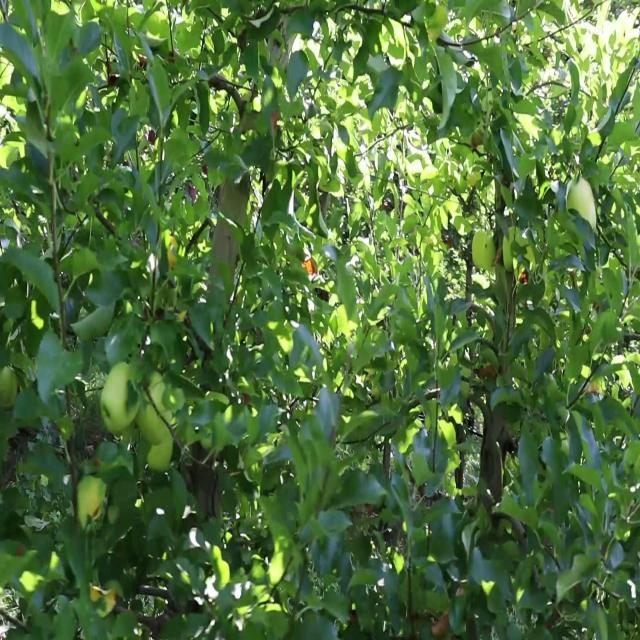apple: (104, 362, 138, 436), (140, 391, 169, 444), (80, 476, 106, 521), (568, 177, 595, 219), (148, 440, 175, 476), (0, 369, 19, 412), (304, 255, 317, 277), (272, 113, 280, 132), (148, 135, 156, 148)
